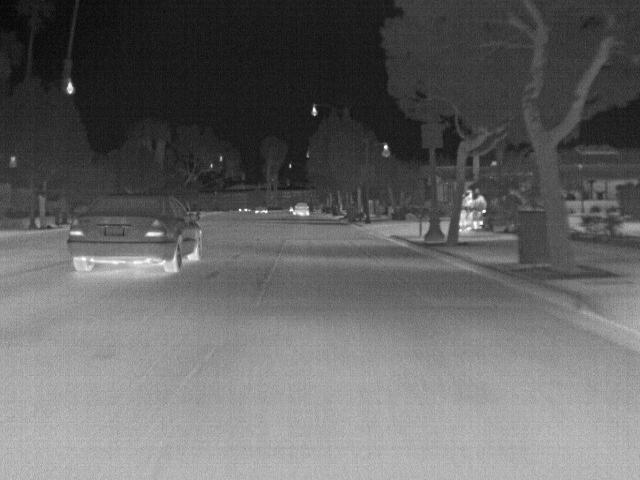car: (66, 192, 201, 274), (291, 200, 310, 216), (254, 202, 268, 214)
person: (473, 192, 488, 228), (460, 190, 473, 230)
